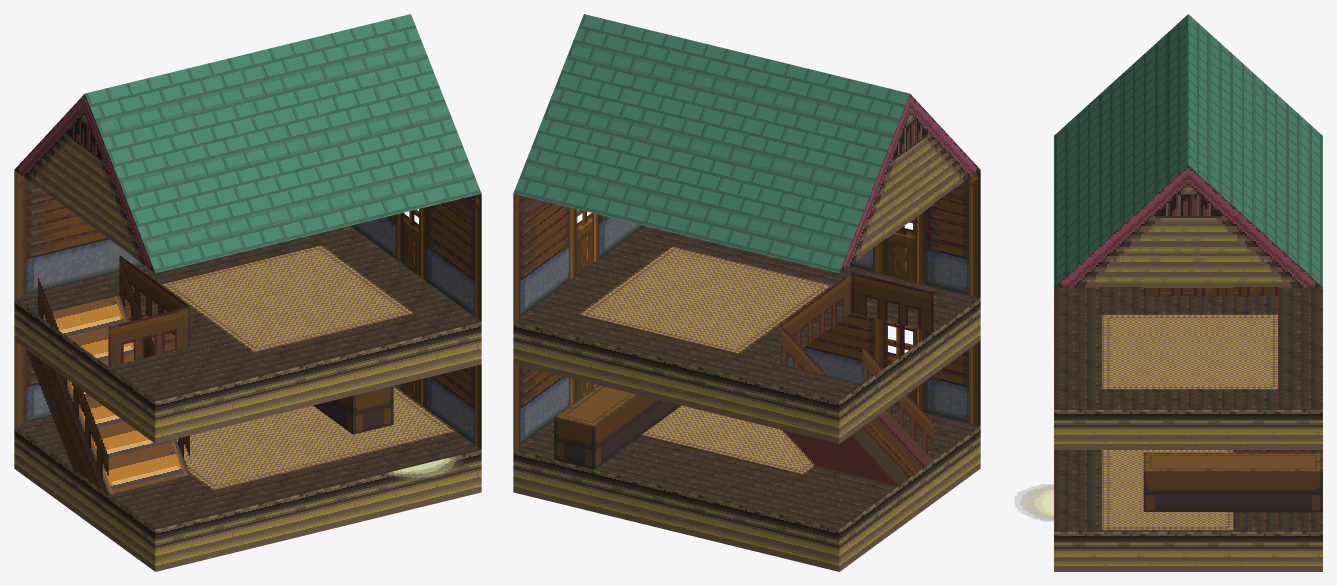
The model's file is house6_in.glb.
The picture shows the model from 3 angles, left to right: view 1: azimuth 30°, elevation 25°; view 2: azimuth 150°, elevation 25°; view 3: azimuth 270°, elevation 25°; orthographic projection. The views are drawn at different scales.
Visible parts, largest first — view 1: Roof, Floor2, Floor1, Stairs, Plane.002, Plane.001, Plane; view 2: Roof, Floor2, Floor1, Plane.002, Stairs, Plane, Plane.001; view 3: Roof, Floor2, Floor1, Plane.002, Plane, Plane.001, Stairs.
Part boxes in pixels (x1,y1,x2,y2): Roof: (14,14,481,273); Floor2: (14,170,481,443); Floor1: (14,299,481,571); Stairs: (26,255,190,494); Plane.002: (160,245,416,353); Plane.001: (176,385,457,491); Plane: (313,386,393,434); Roof: (513,14,980,273); Floor2: (513,170,980,443); Floor1: (513,312,980,571); Plane.002: (578,245,834,353); Stairs: (781,272,933,486); Plane: (554,385,681,469); Plane.001: (642,405,815,474); Roof: (1054,14,1322,287); Floor2: (1054,287,1322,449); Floor1: (1015,287,1322,571); Plane.002: (1098,314,1277,389); Plane: (1143,452,1322,512); Plane.001: (1098,450,1233,530); Stairs: (1143,287,1277,295).
Size of the model in its own units: 8 by 10 by 7.
Materials: 6 (6 with a texture image).
